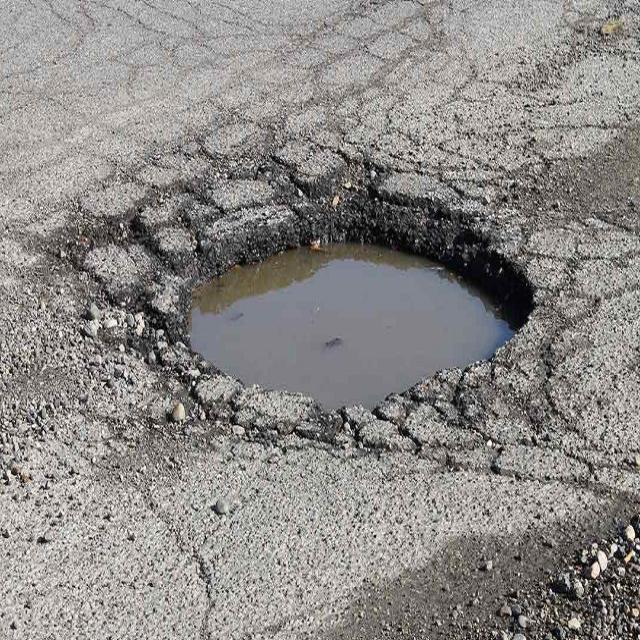Pothole: (178, 159, 537, 413)
